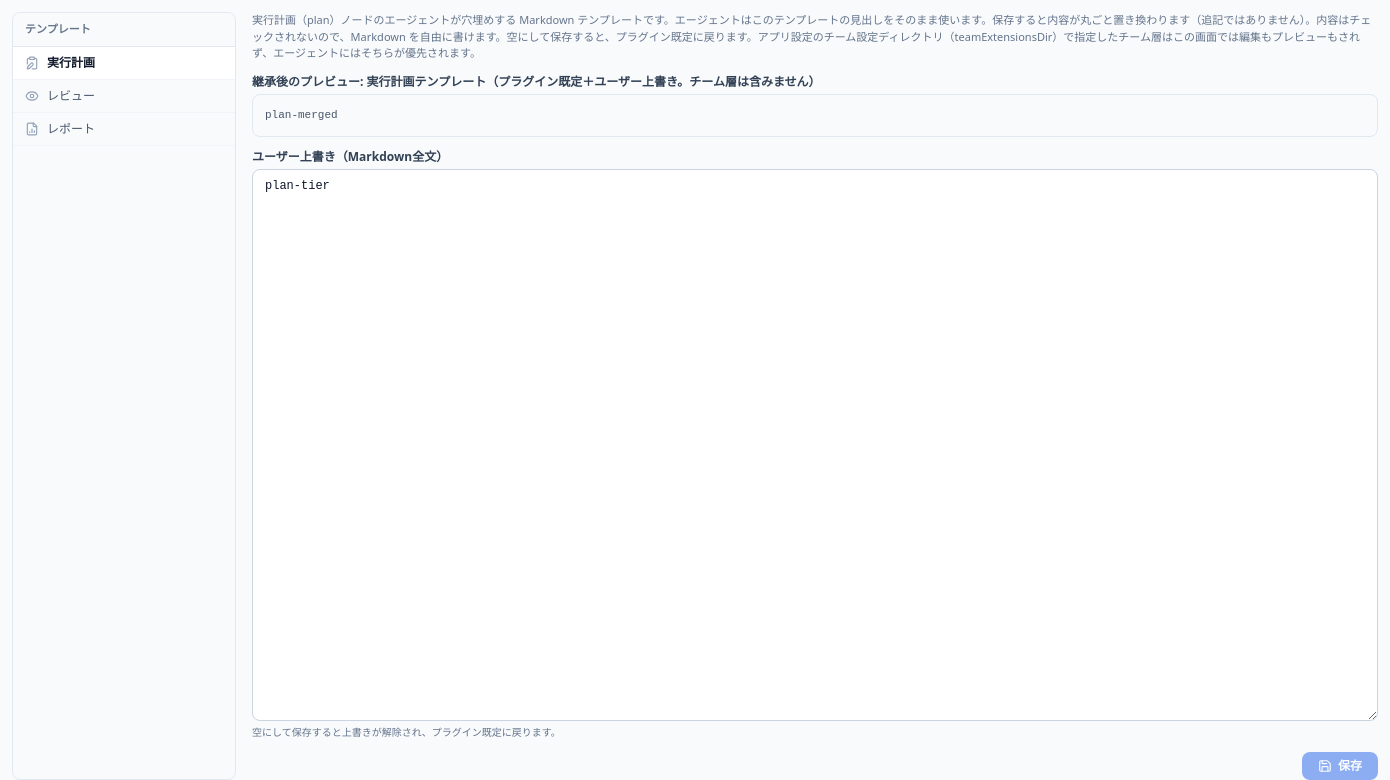
Scenario: TemplatesEditor › shows the selected template on the right when another list item is chosen
What coordinates should you click on to do the following:
click the button "レビュー"
I would click on:
 (124, 96)
Its box is [13,80,235,112].
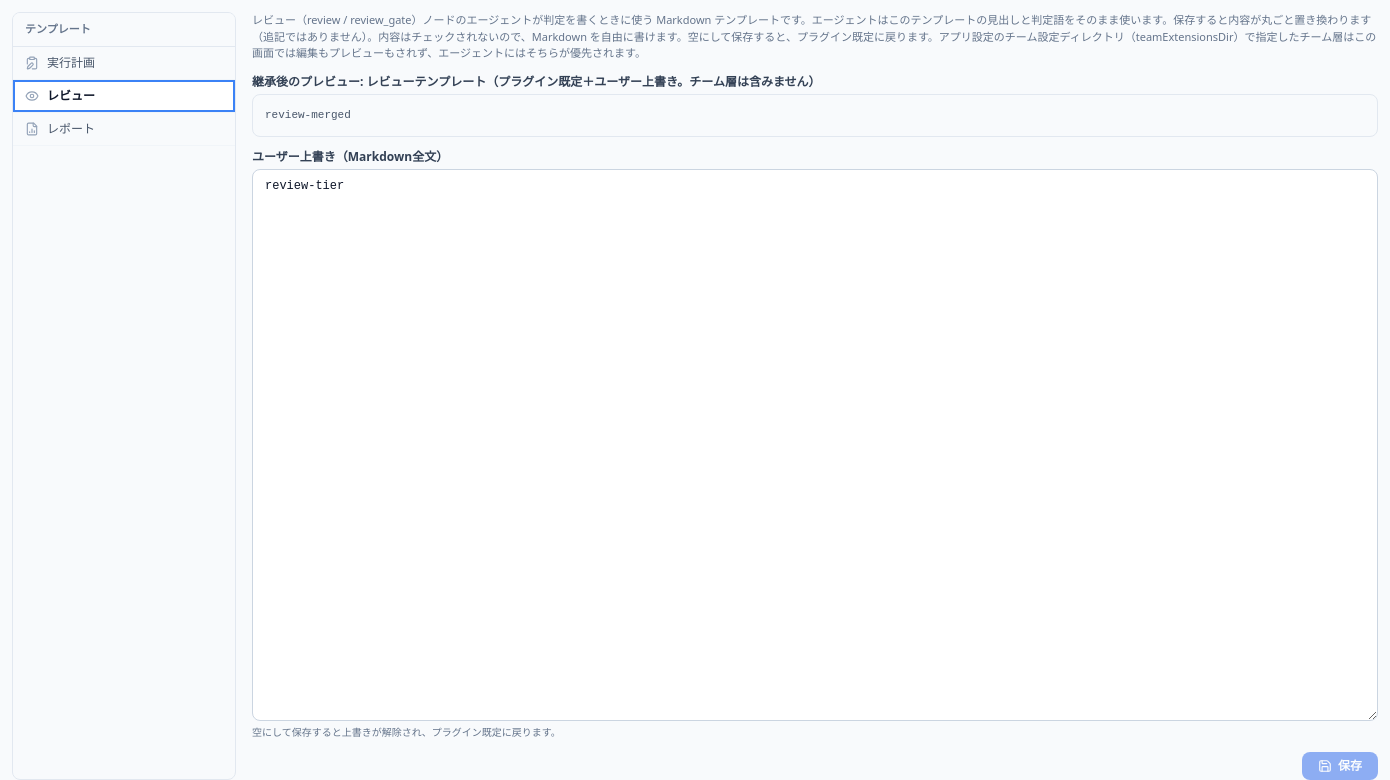
Check: the text named "継承後のプレビュー: レビューテンプレート（プラグイン既定＋ユーザー上書き。チーム層は含みません）" reads "review-merged", box [265,108,351,120]
Check: the text box labelled "ユーザー上書き（Markdown全文）" holds "review-tier", box [252,169,1378,721]
What coordinates should you click on to do the following:
click the button "レポート"
I would click on:
 (124, 128)
Its box is [13,112,235,144].
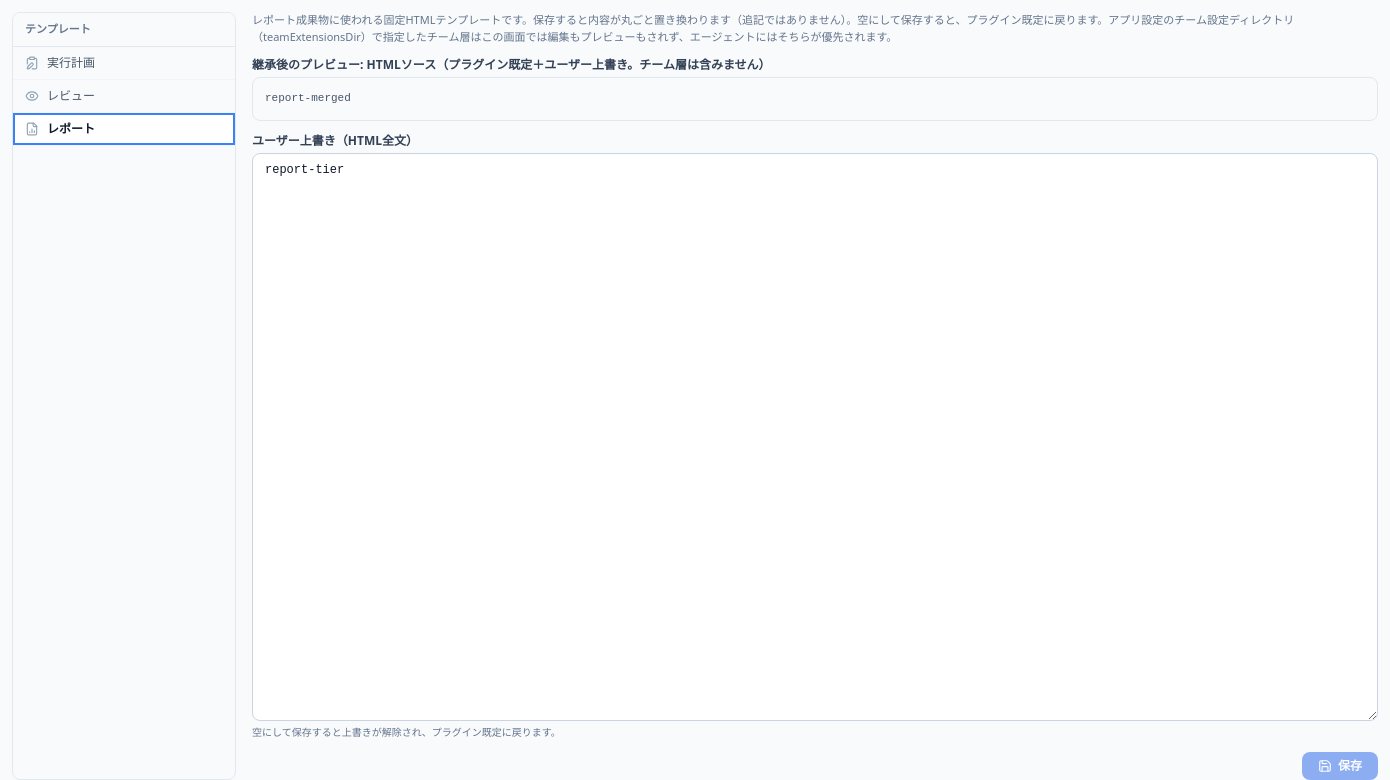
Check: the text named "継承後のプレビュー: HTMLソース（プラグイン既定＋ユーザー上書き。チーム層は含みません）" reads "report-merged", box [265,92,351,104]
Check: the text box labelled "ユーザー上書き（HTML全文）" holds "report-tier", box [252,153,1378,721]
Check: the text "レポート成果物に使われる固定HTMLテンプレートです。保存すると内容が丸ごと置き換わります（追記ではありません）。空にして保存すると、プラグイン既定に戻ります。アプリ設定のチーム設定ディレクトリ（teamExtensionsDir）で指定し" is shown, box [252,12,1294,44]
